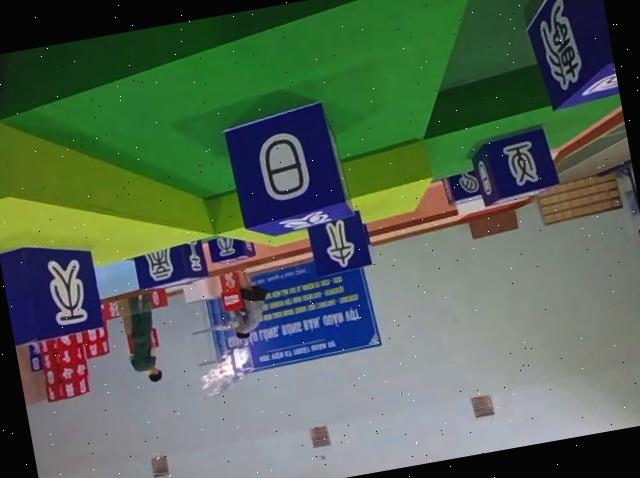R2 Fake Blue: (218, 94, 355, 239), (0, 233, 106, 348), (512, 0, 620, 112), (468, 123, 561, 206), (305, 207, 375, 277), (131, 239, 207, 291), (204, 229, 254, 263), (437, 167, 481, 204)
